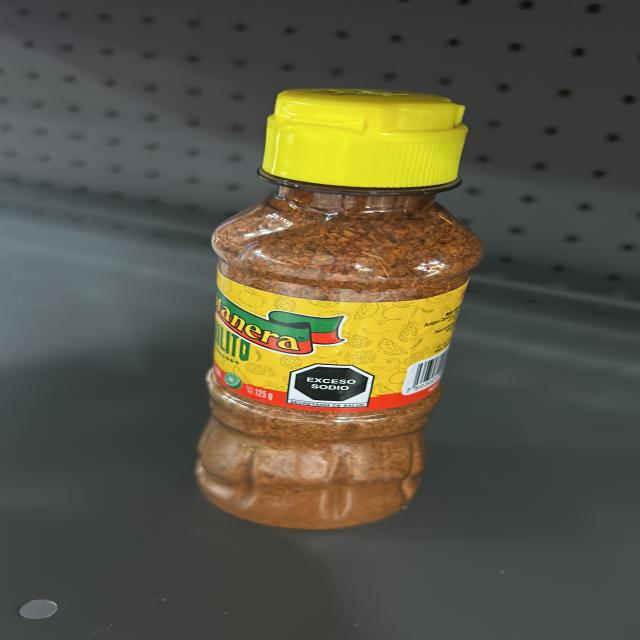botaneraChilito: (207, 91, 483, 527)
